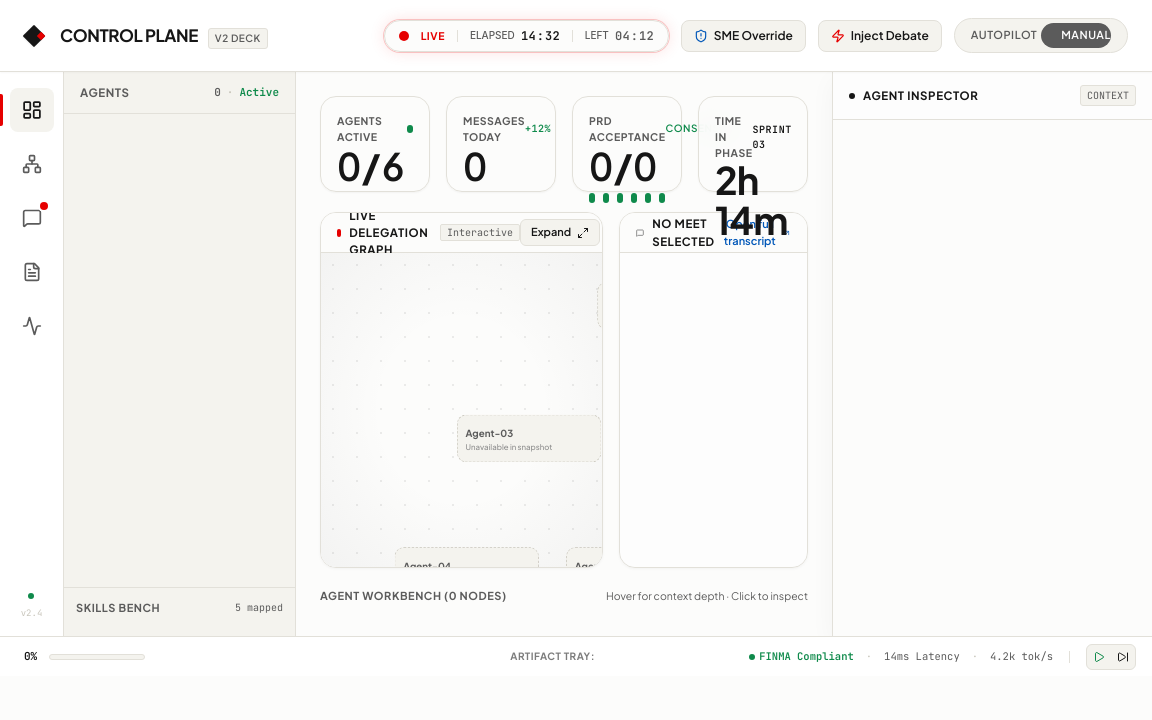
Test case: ControlPlaneView › renders full version history and document body from rich snapshots
Click the button named "Artifacts — PRD & Architecture Diffs" at (32, 272), box [10,250,54,294]
(page scrolled)
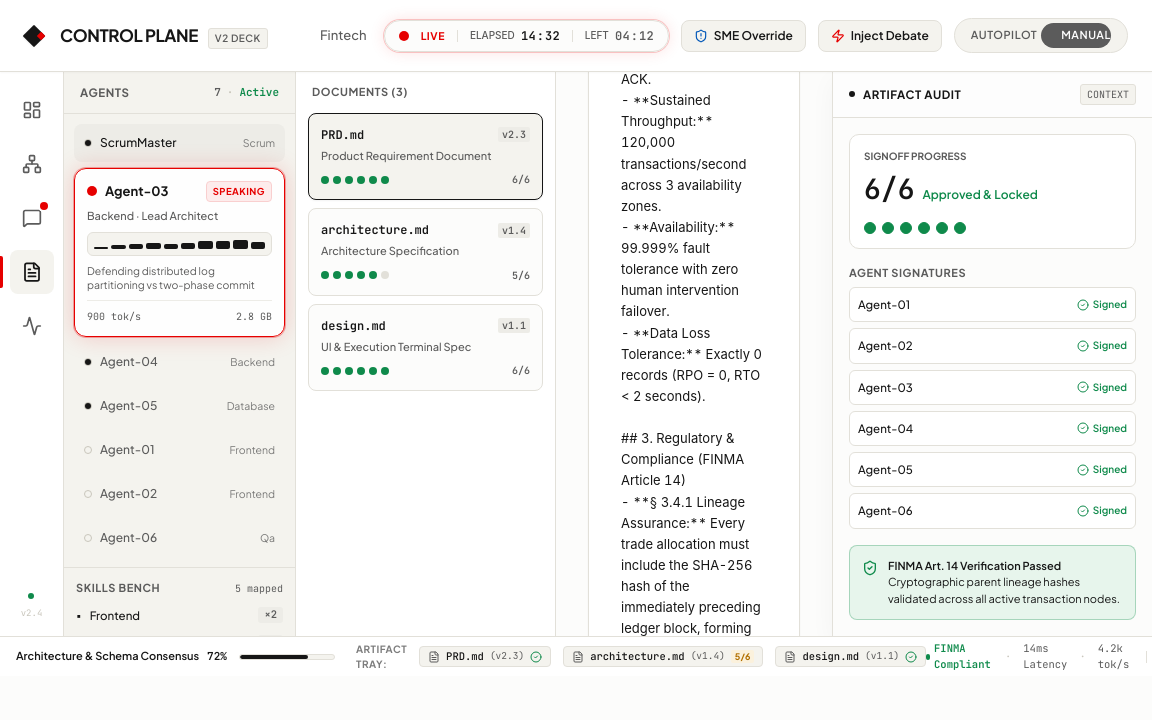
Now the text "Product Requirement Document" is shown, box [321,148,492,162]
Now the text "v2.3" is shown, box [498,127,530,142]
